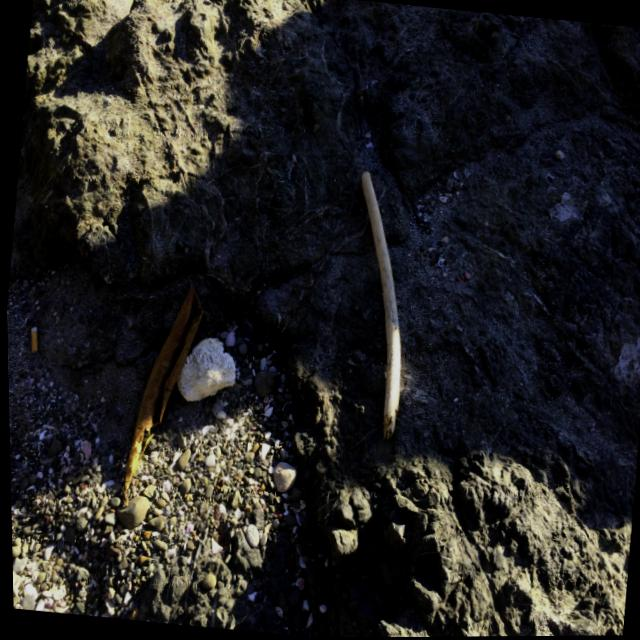Plastic: (167, 327, 245, 409)
